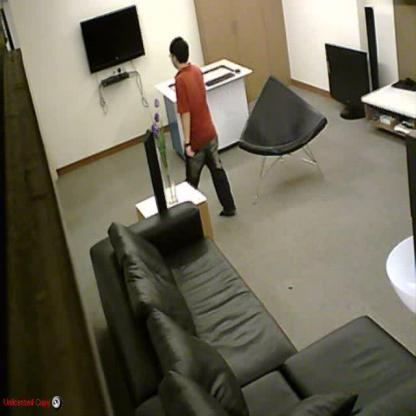Person: (168, 37, 238, 217)
